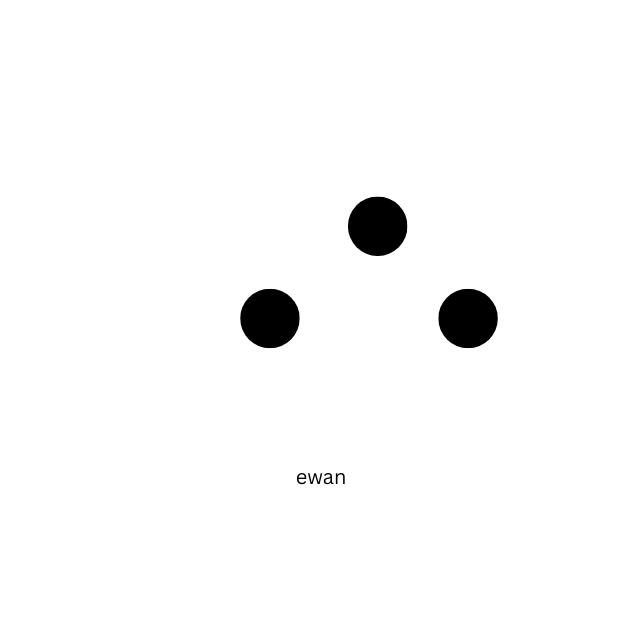dot_5: (148, 194, 301, 444)
two_cell_alphabet_ewan: (346, 193, 499, 443)
